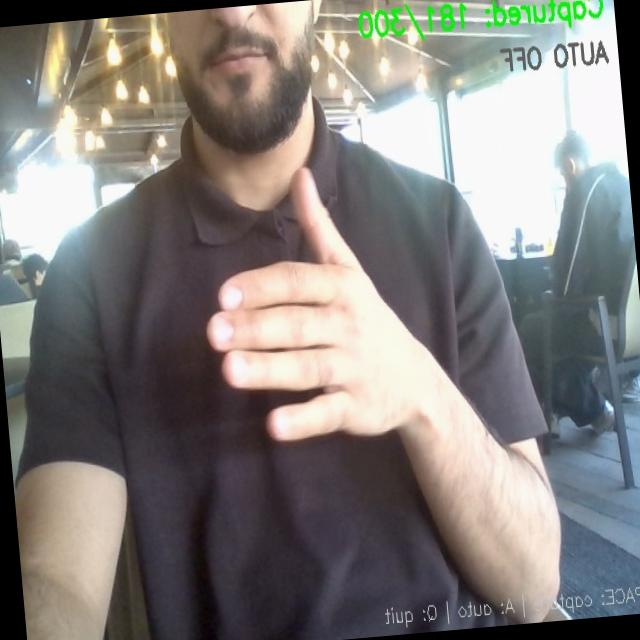Hand: (208, 168, 436, 440)
